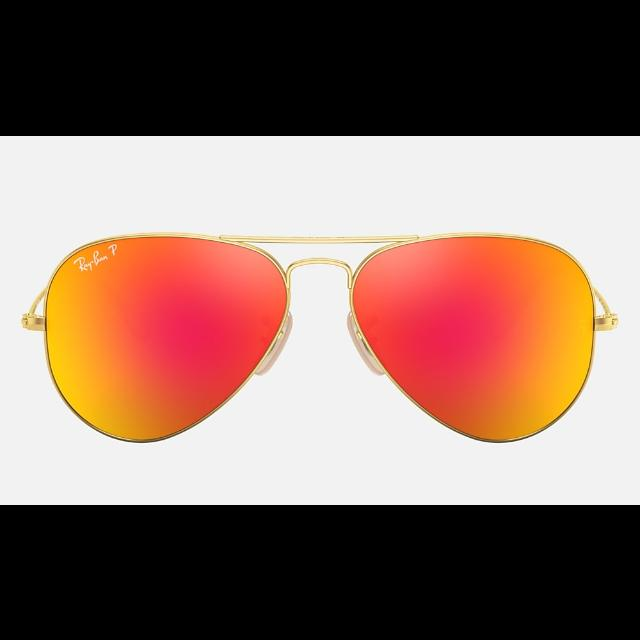Sunglasses: (24, 231, 618, 443)
